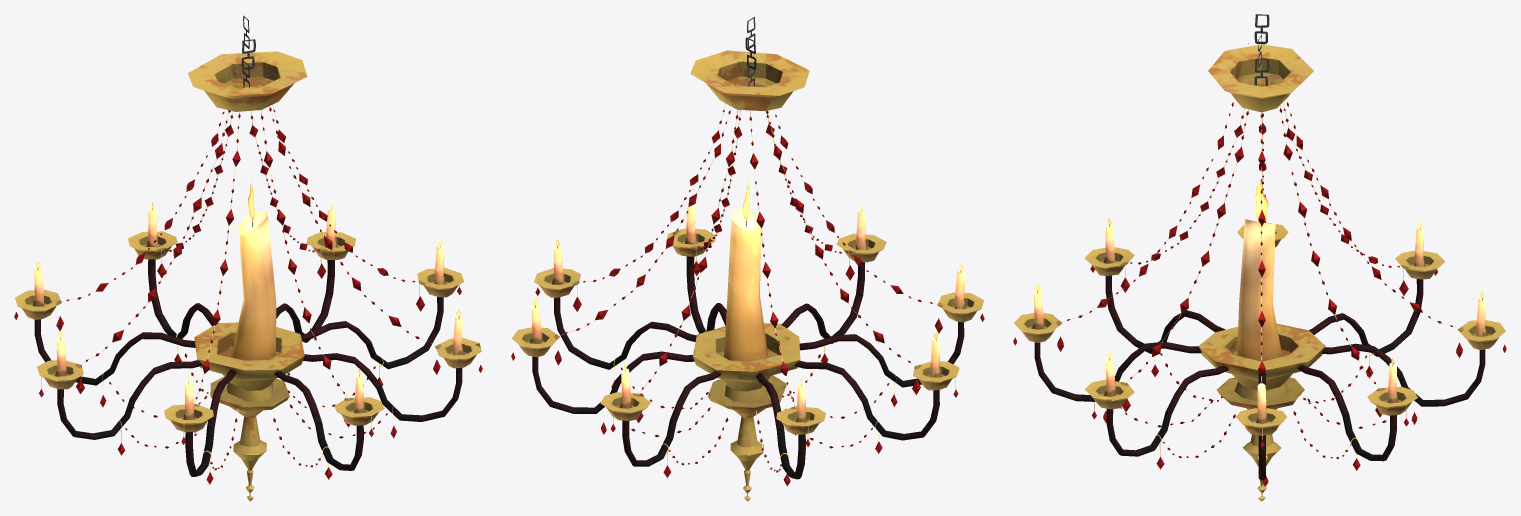
The model's file is Chandalier.fbx.
3 renders of one model, left to right at view 1: azimuth 30°, elevation 25°; view 2: azimuth 150°, elevation 25°; view 3: azimuth 270°, elevation 25°, orthographic.
Visible parts, largest first — view 1: Box010; view 2: Box010; view 3: Box010.
Part boxes in pixels (x1=…): Box010: x1=14, y1=15, x2=482, y2=501; Box010: x1=511, y1=17, x2=984, y2=501; Box010: x1=1013, y1=14, x2=1506, y2=501.
Bounding box in the file's own units: 103 × 113 × 104.
